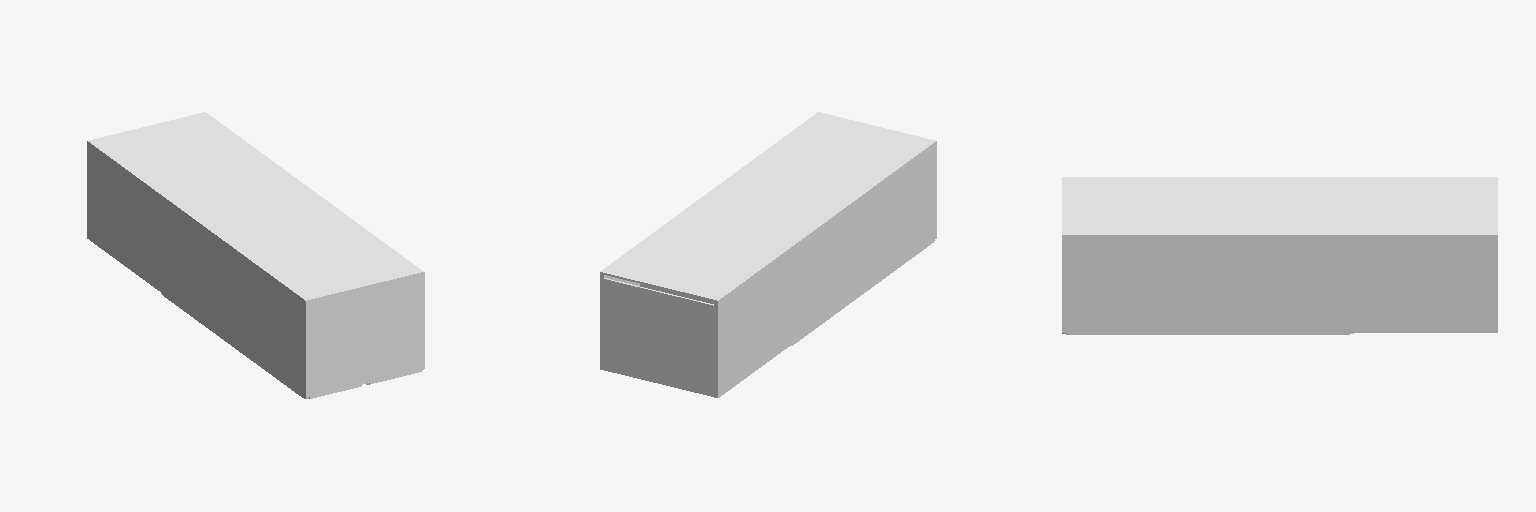
File: StuvaFritidsWardrobe_White.obj
3 views of the same model, side by side, from view 1: azimuth 30°, elevation 25°; view 2: azimuth 150°, elevation 25°; view 3: azimuth 270°, elevation 25° (orthographic).
Visible parts, largest first — view 1: obj_0; view 2: obj_0; view 3: obj_0.
Boxes of the visible parts, box(x1,y1,x2,y2) form: obj_0: box(87, 112, 424, 398); obj_0: box(600, 112, 936, 397); obj_0: box(1062, 177, 1497, 334).
Size of the model in its own units: 60.1 by 48 by 191.